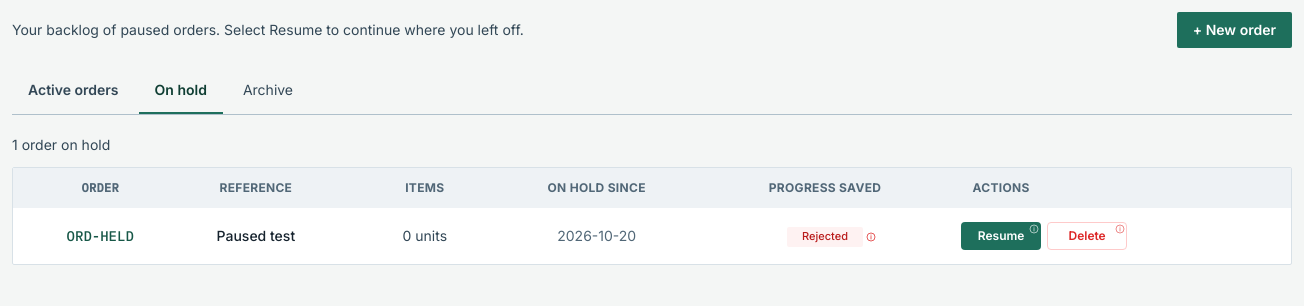
Test: backlog and archive views › keeps a failed resume available for retry without navigating away
This screenshot has width=1304, height=306.
Click the button "Resume" at [1001, 236], box x1=961 y1=222 x2=1041 y2=250
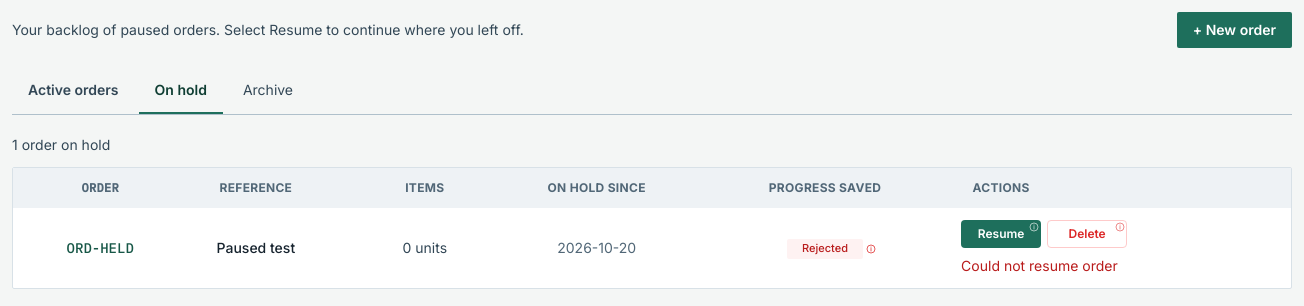
Expected: the text "Could not resume order" is shown, x1=961 y1=257 x2=1118 y2=274
